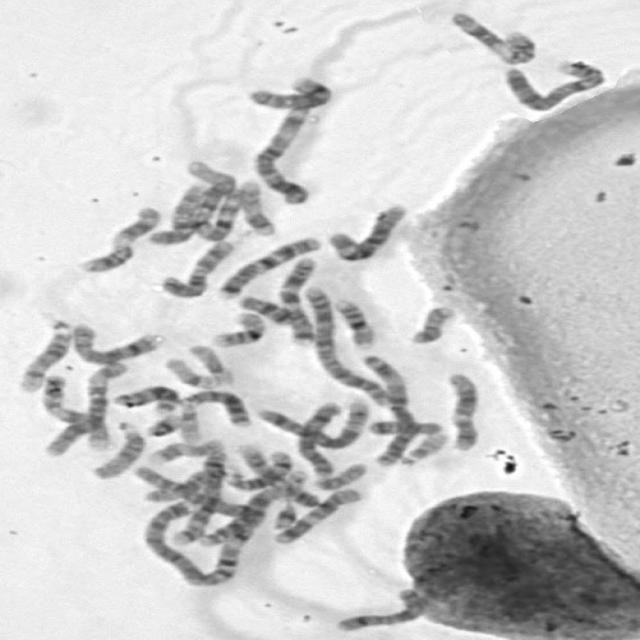A1: (193, 464, 312, 590), (179, 155, 248, 243)
A2: (296, 284, 391, 406), (137, 499, 254, 588)
A3: (248, 87, 319, 207), (354, 350, 420, 468)
B4: (199, 487, 330, 548), (497, 55, 609, 112)
B5: (164, 444, 228, 548), (250, 395, 370, 449)
C10: (156, 236, 240, 299), (144, 180, 210, 246)
C11: (72, 202, 162, 274), (446, 8, 542, 66)
C12: (269, 484, 368, 545), (439, 369, 482, 452)
C6: (37, 361, 129, 457), (322, 200, 411, 262)
C7: (212, 232, 325, 300), (271, 254, 318, 346)
C8: (65, 320, 166, 366), (244, 73, 337, 110)
C9: (232, 439, 324, 509), (38, 372, 116, 452)
D13: (175, 386, 254, 429), (107, 381, 183, 414)
D14: (13, 321, 78, 394), (222, 447, 295, 491)
D15: (138, 460, 231, 504), (84, 418, 148, 480)
E16: (327, 295, 377, 350), (204, 308, 270, 348)
E17: (143, 433, 229, 465), (235, 177, 280, 237)
E18: (234, 292, 298, 326), (363, 415, 446, 437)
F19: (181, 340, 235, 386), (160, 353, 225, 389)
F20: (405, 302, 459, 346), (310, 459, 370, 491)
G21: (141, 411, 185, 438), (268, 497, 302, 530)
G22: (395, 428, 452, 468), (175, 403, 203, 445)
X: (327, 586, 431, 633), (294, 398, 346, 478)
